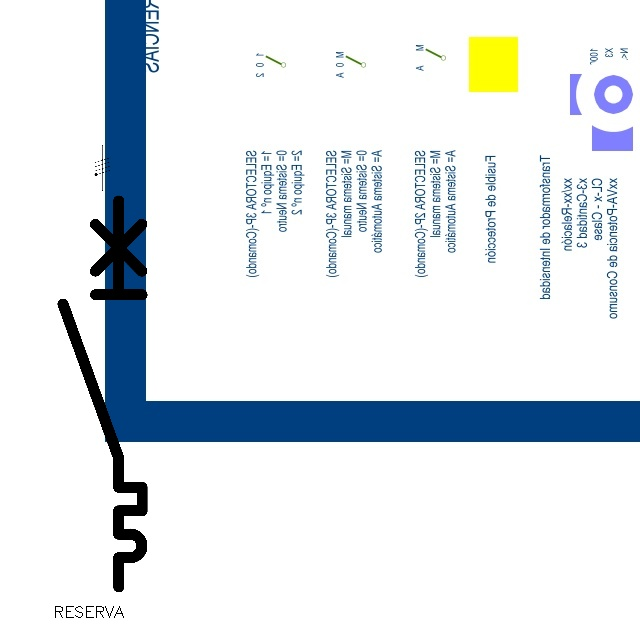interruptor_termomagnetico: (53, 190, 152, 596)
